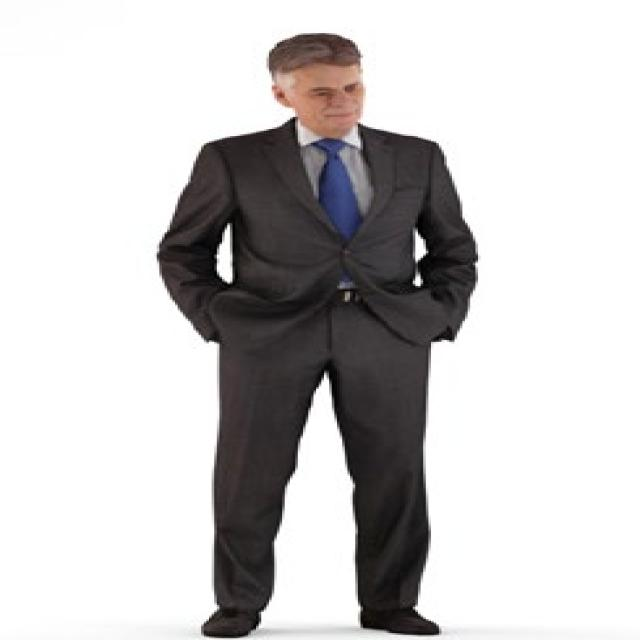standing: (146, 29, 483, 640)
